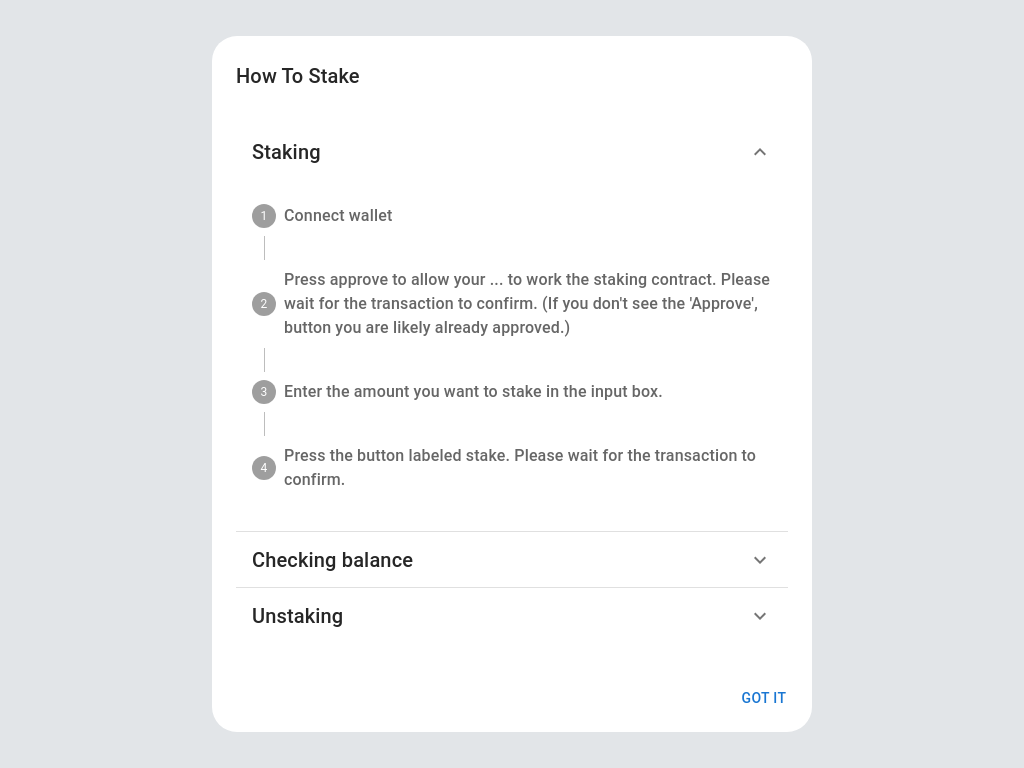
Scenario: StakingGuide Component › should open and close the accordion when clicked
Expected: the text "Enter the amount you want to stake in the input box." is shown, [284, 382, 663, 401]
Click the button "Staking": (286, 152) [252, 140, 772, 164]
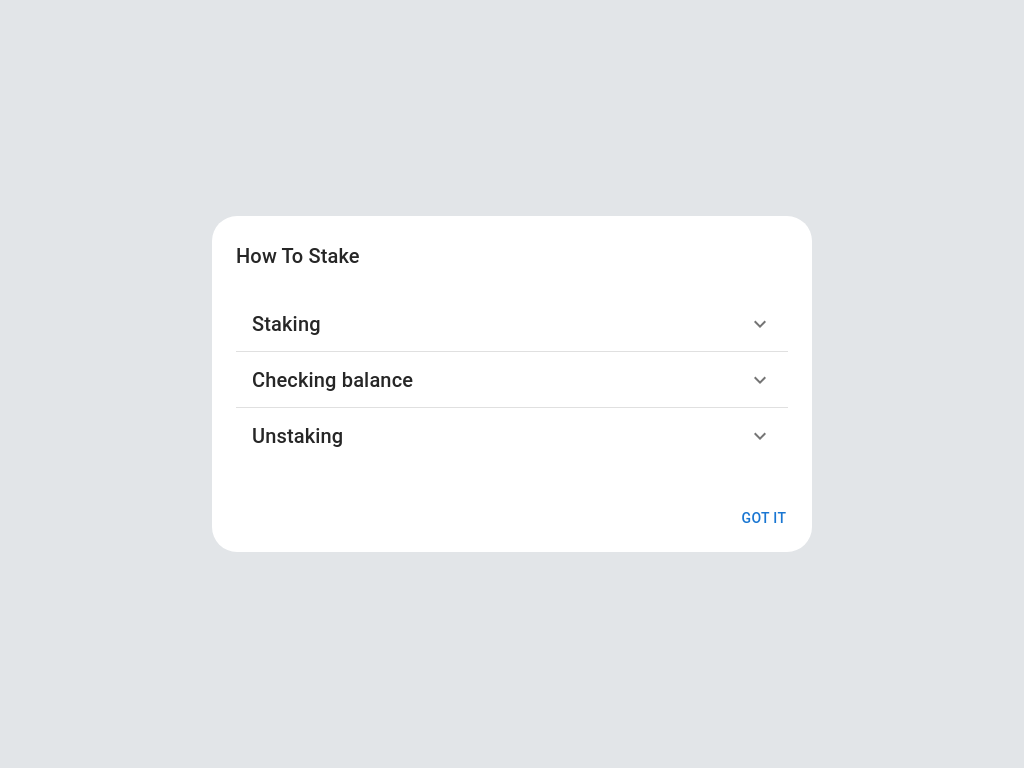
Click the button "Staking": (286, 324) [252, 312, 772, 336]
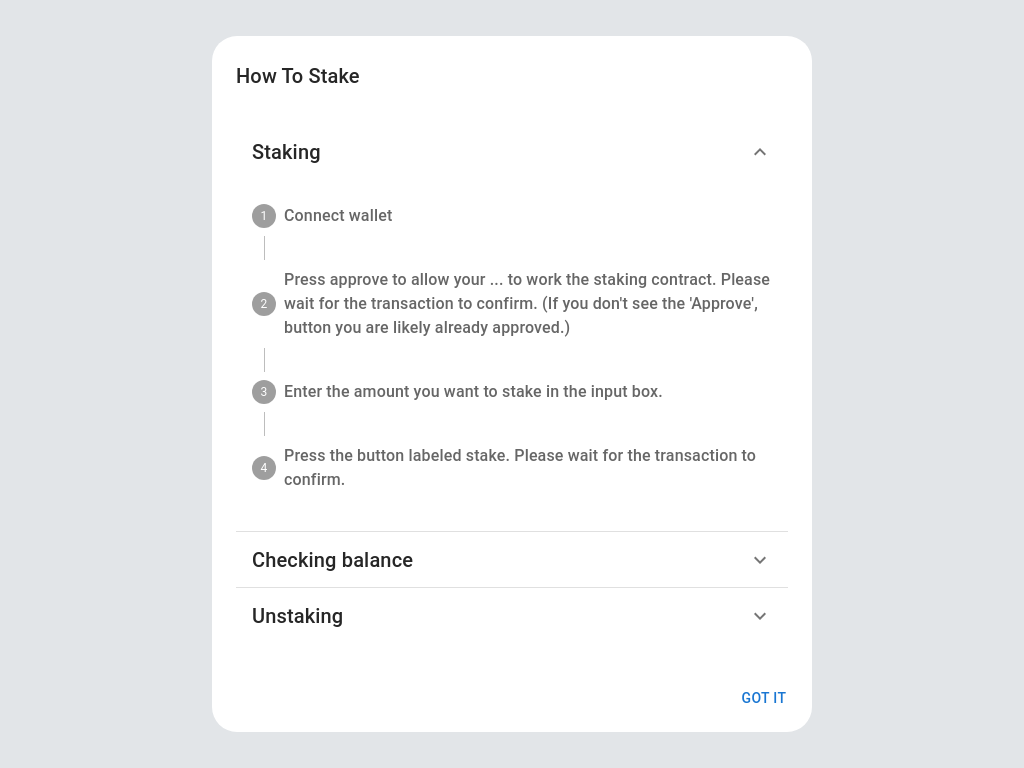
Expected: the text "Enter the amount you want to stake in the input box." is shown, [284, 382, 663, 401]
